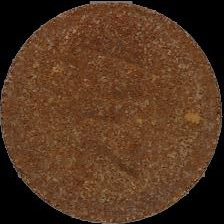0555-9032: (0, 0, 224, 224)
